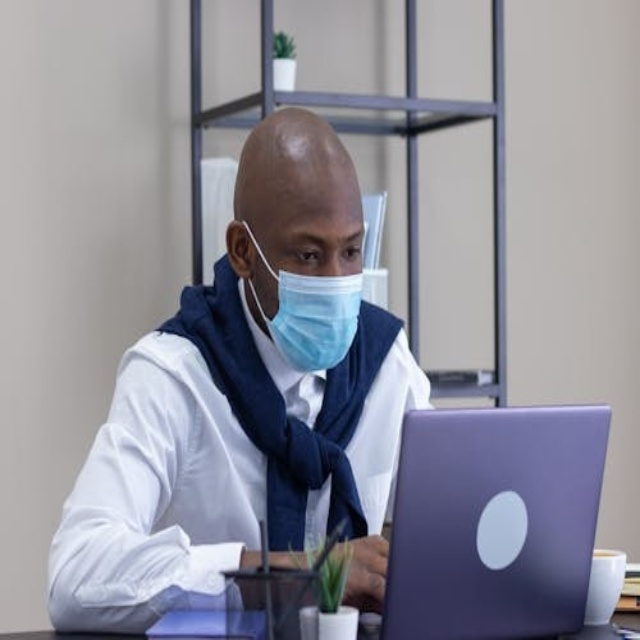Mascara: (248, 225, 364, 370)
Sin_gafas: (274, 213, 371, 270)
